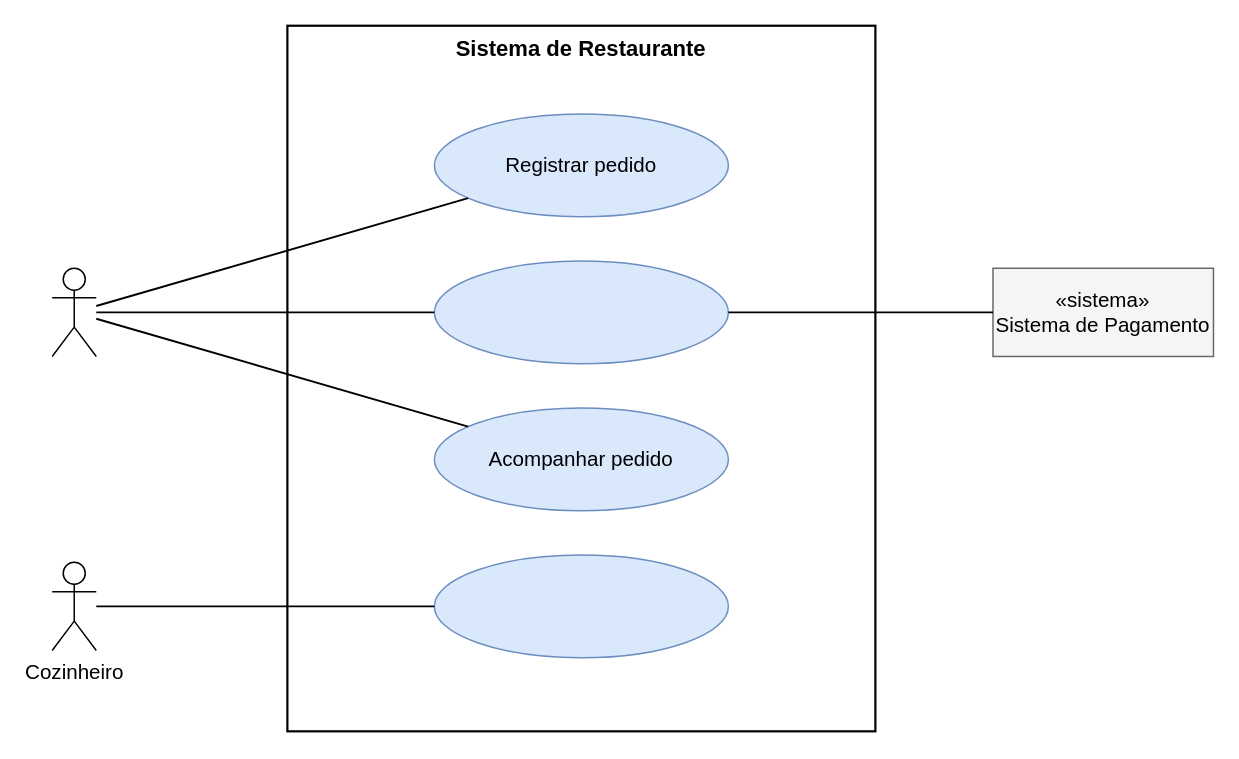
Some shapes in this 1239 by 759 pixel diagram are drawn without their labels. Each missing label, with the centre of its shape:
"Atendente" belongs at point (73, 311).
"Preparar pedido" belongs at point (580, 605).
"Solicitar pagamento" belongs at point (580, 311).
